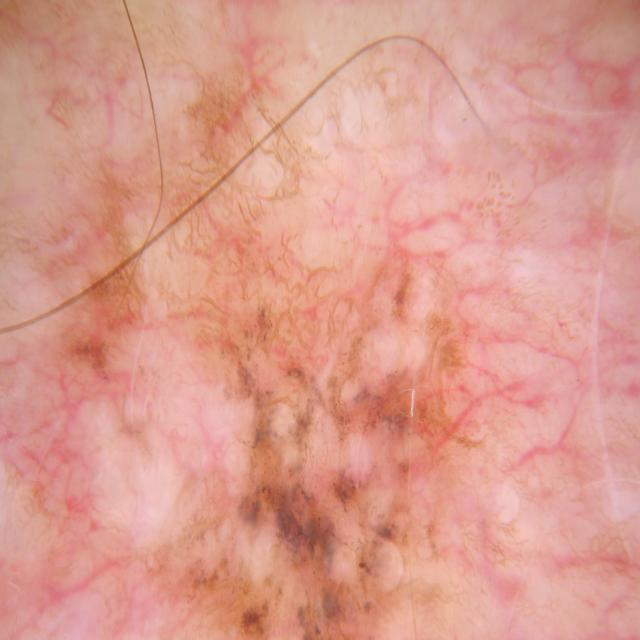Melanoma: (176, 279, 464, 640)
